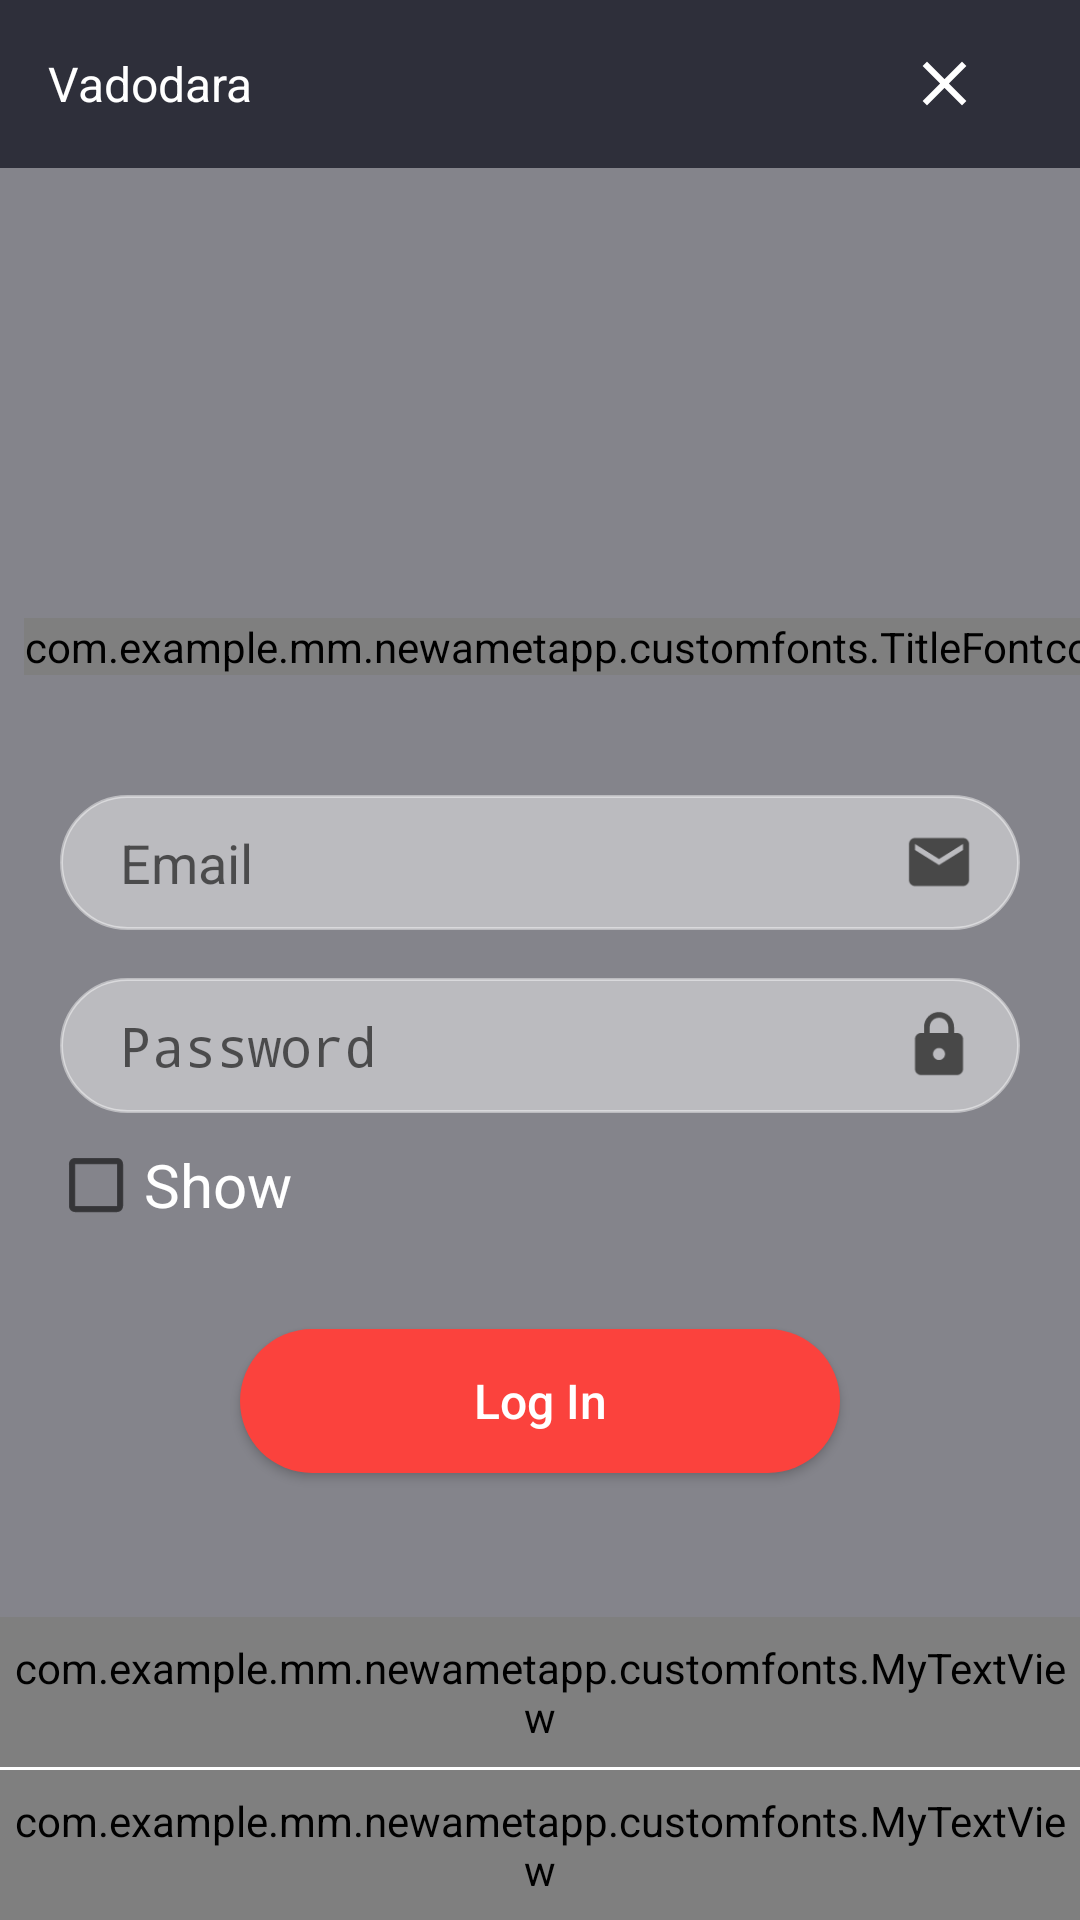

Icon click points for this 1080×1920 phone screenshot, format (x,y):
close: (944,83)
